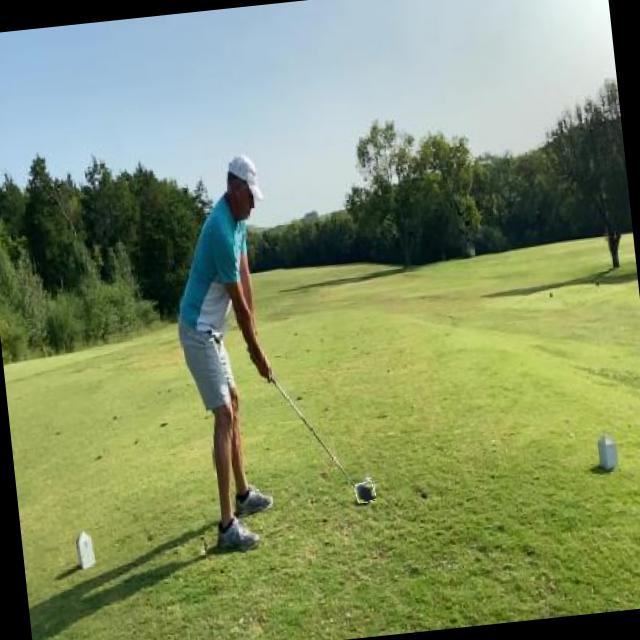club head: (354, 480, 376, 503)
